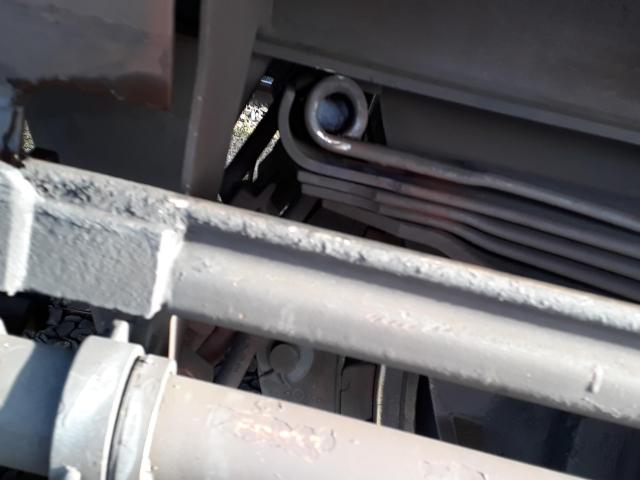blattfederww: (270, 60, 633, 297)
